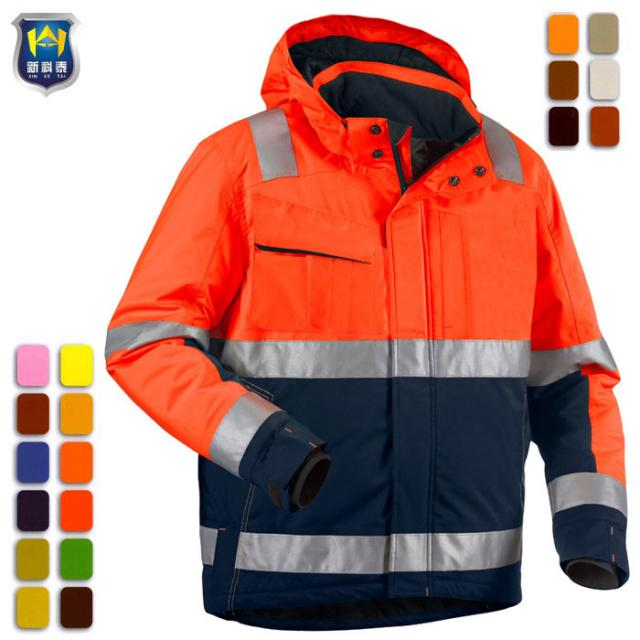Reflective-Jacket: (164, 13, 636, 640)
